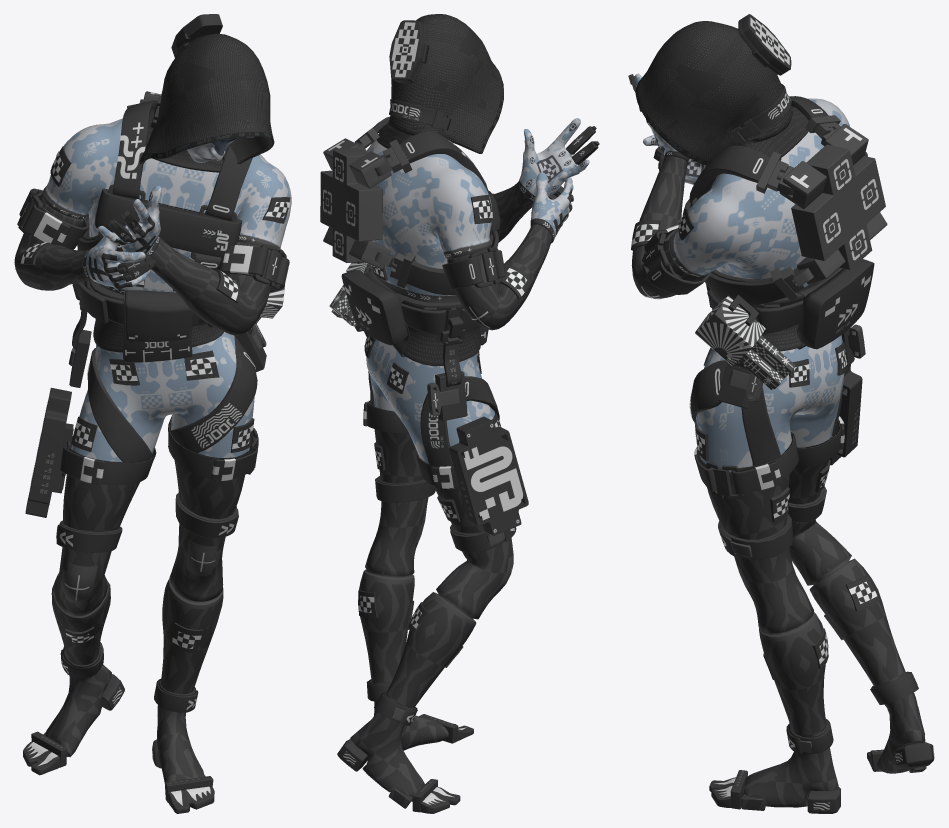
File: Assassin.glb
3 views of the same model, side by side, from view 1: azimuth 30°, elevation 25°; view 2: azimuth 150°, elevation 25°; view 3: azimuth 270°, elevation 25° (orthographic). The views are drawn at different scales.
Parts seen in each view (by area): view 1: legs, body_torso, hood, upper_arm_strapsarms, straps_crotch, harness_straps, strap_chest, straps_mid, hands, satchel_flap, legs_kicks, patches (+22 smaller); view 2: legs, body_torso, hood, upper_arm_strapsarms, backpack_main, holster, hands, rear_fanny_pack, harness_straps, legs_kicks, decals_holster, straps_crotch (+21 smaller); view 3: legs, hood, body_torso, backpack_main, harness_straps, rear_fanny_pack, upper_arm_strapsarms, turboencabulator, legs_kicks, backpack_corners, straps_crotch, straps_mid (+19 smaller).
Part boxes in pixels (x1=…): legs: x1=45, y1=332, x2=254, y2=783; body_torso: x1=42, y1=118, x2=291, y2=294; hood: x1=140, y1=33, x2=273, y2=164; upper_arm_strapsarms: x1=14, y1=196, x2=271, y2=335; straps_crotch: x1=87, y1=335, x2=257, y2=462; harness_straps: x1=77, y1=100, x2=252, y2=270; strap_chest: x1=94, y1=188, x2=242, y2=257; straps_mid: x1=60, y1=415, x2=257, y2=485; hands: x1=83, y1=185, x2=161, y2=288; satchel_flap: x1=125, y1=290, x2=193, y2=342; legs_kicks: x1=23, y1=674, x2=214, y2=813; patches: x1=65, y1=350, x2=254, y2=652; legs: x1=350, y1=339, x2=513, y2=801; body_torso: x1=366, y1=140, x2=492, y2=303; hood: x1=387, y1=14, x2=503, y2=153; upper_arm_strapsarms: x1=447, y1=181, x2=552, y2=330; backpack_main: x1=320, y1=147, x2=382, y2=262; holster: x1=449, y1=416, x2=528, y2=535; hands: x1=519, y1=118, x2=589, y2=243; rear_fanny_pack: x1=341, y1=269, x2=407, y2=345; harness_straps: x1=373, y1=116, x2=498, y2=295; legs_kicks: x1=337, y1=714, x2=473, y2=813; decals_holster: x1=461, y1=423, x2=523, y2=532; straps_crotch: x1=368, y1=371, x2=499, y2=465; legs: x1=696, y1=335, x2=925, y2=807; hood: x1=636, y1=21, x2=792, y2=165; body_torso: x1=670, y1=98, x2=849, y2=293; backpack_main: x1=791, y1=144, x2=885, y2=269; harness_straps: x1=689, y1=96, x2=828, y2=304; rear_fanny_pack: x1=798, y1=259, x2=874, y2=349; upper_arm_strapsarms: x1=631, y1=156, x2=703, y2=298; turboencabulator: x1=695, y1=295, x2=795, y2=389; legs_kicks: x1=709, y1=742, x2=934, y2=813; backpack_corners: x1=779, y1=124, x2=887, y2=284; straps_crotch: x1=690, y1=360, x2=842, y2=465; straps_mid: x1=694, y1=416, x2=844, y2=494.
Bounding box in the file's own units: 0.5538 × 1.82 × 0.6359.
Materials: 11 (10 with a texture image).
